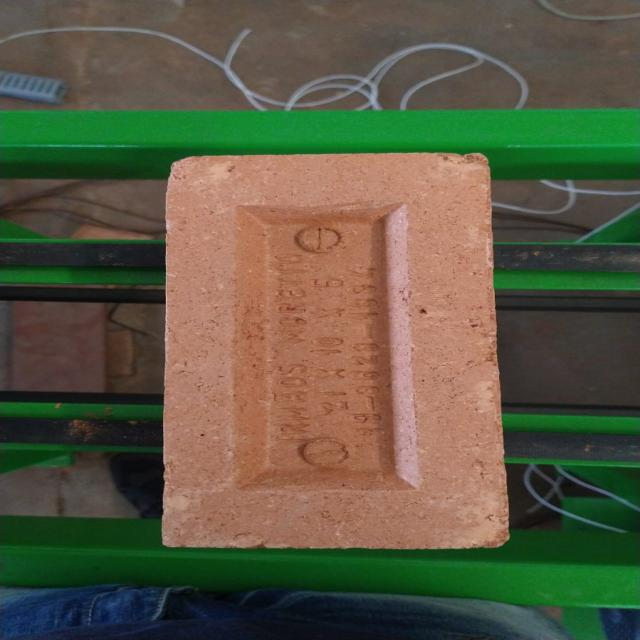bricks: (158, 150, 511, 547)
